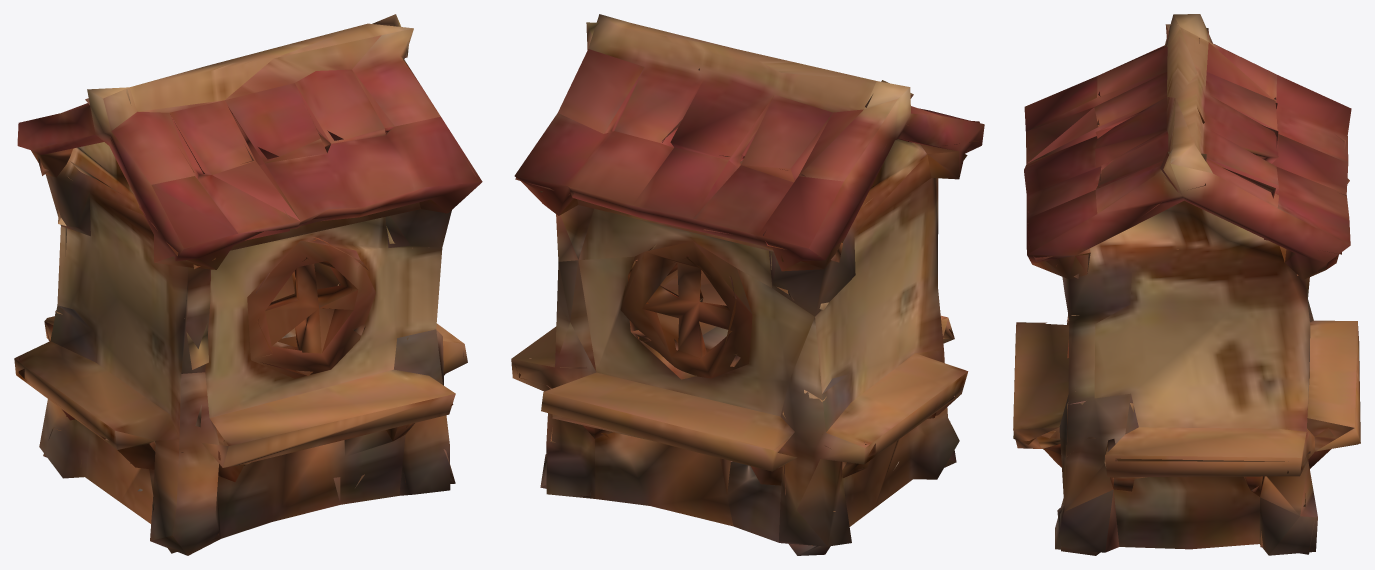
The model's file is lg-harbour-tavern-sign.glb.
3 views of the same model, side by side, from view 1: azimuth 30°, elevation 25°; view 2: azimuth 150°, elevation 25°; view 3: azimuth 270°, elevation 25° (orthographic). The views are drawn at different scales.
Visible parts, largest first — view 1: geometry_0; view 2: geometry_0; view 3: geometry_0.
Part boxes in pixels (x1,y1,x2,y2): geometry_0: (14,14,482,555); geometry_0: (511,14,984,555); geometry_0: (1013,14,1360,555).
Bounding box in the file's own units: 0.8765 × 1 × 0.776.
Materials: 1 (1 with a texture image).
